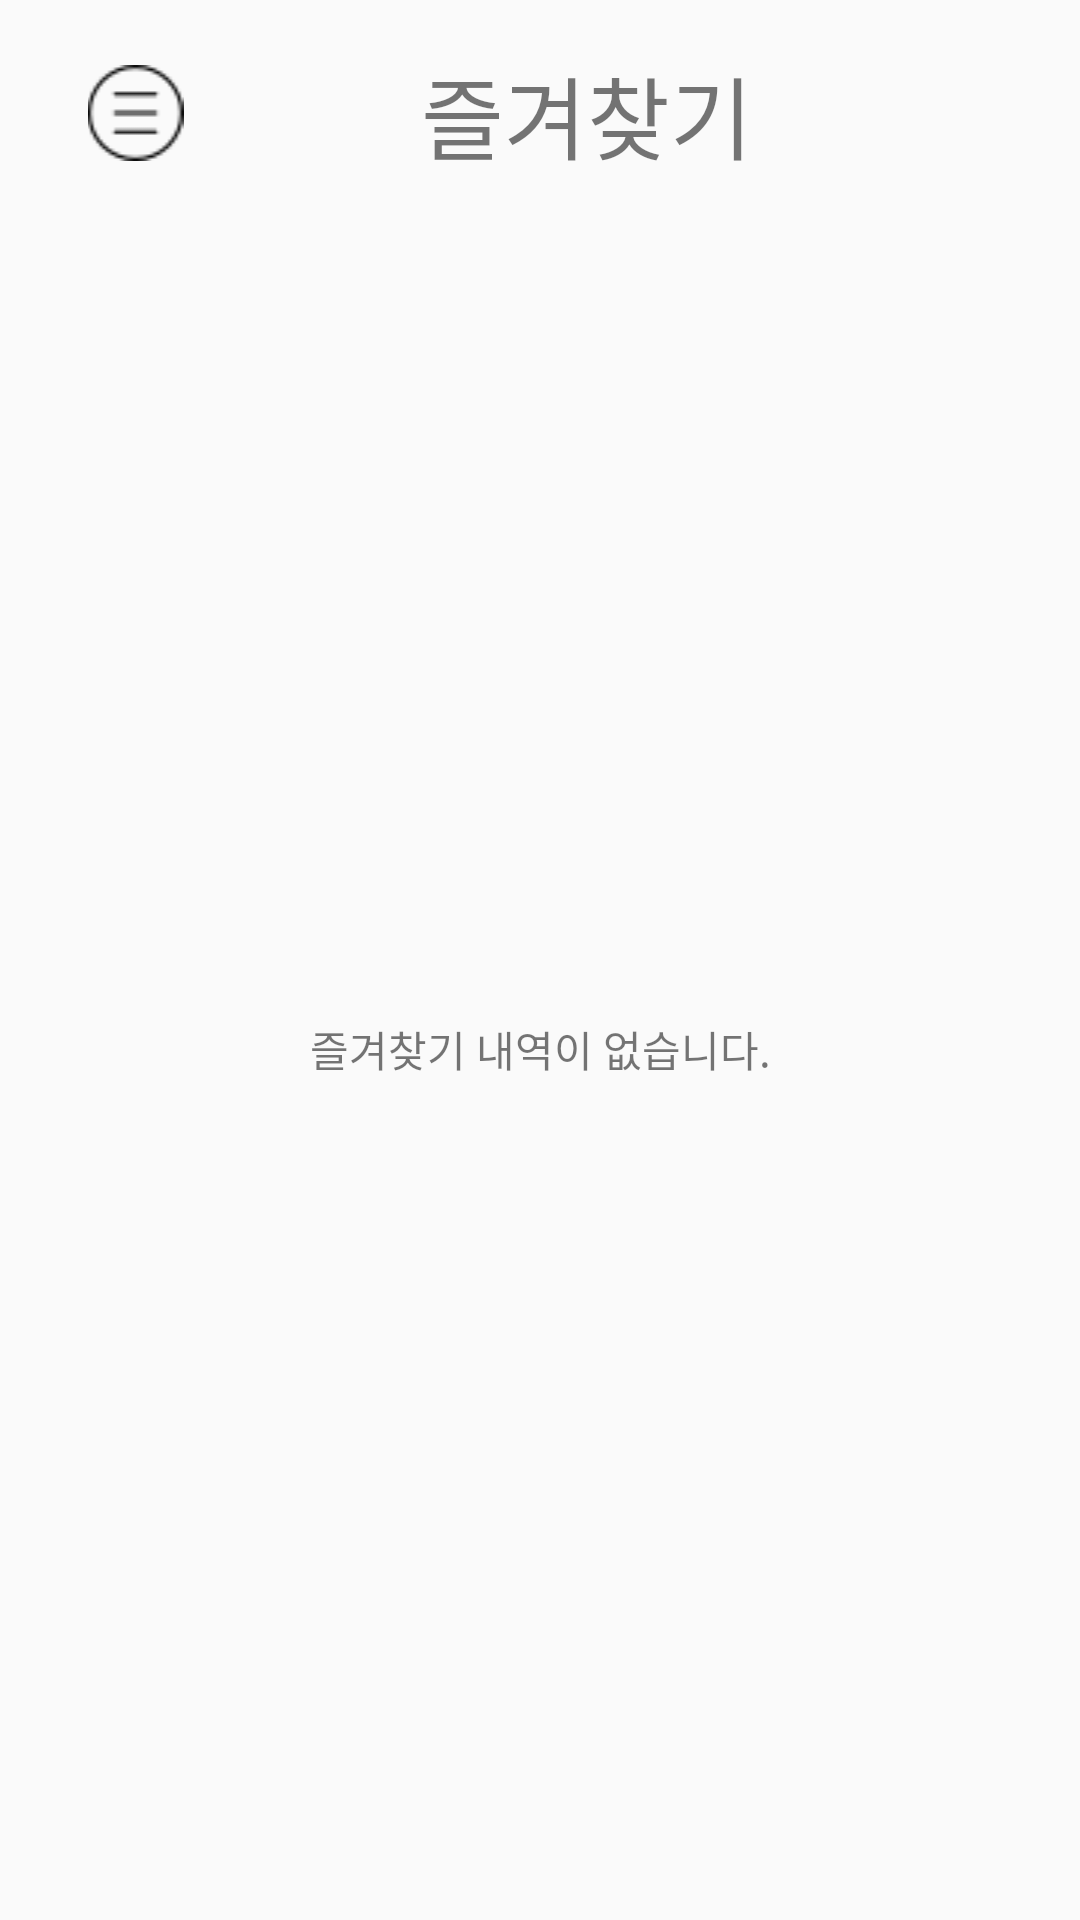

Where icons sit on this 1080w x 1920h app screen, as (x1, y1, x2, y2):
menu: (88, 65, 184, 161)
